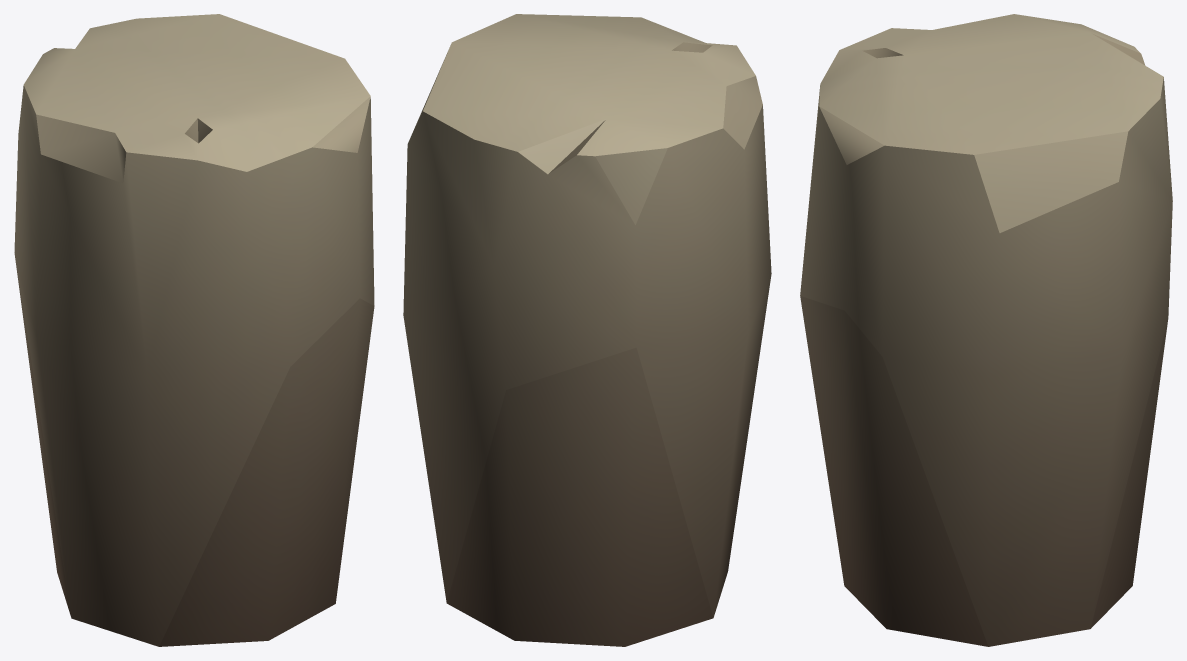
The model's file is Rock_Shrine_1C.fbx.
3 views of the same model, side by side, from view 1: azimuth 30°, elevation 25°; view 2: azimuth 150°, elevation 25°; view 3: azimuth 270°, elevation 25° (orthographic).
Visible parts, largest first — view 1: Rock_Shrine_1C; view 2: Rock_Shrine_1C; view 3: Rock_Shrine_1C.
Part boxes in pixels (x1,y1,x2,y2): Rock_Shrine_1C: [14, 14, 374, 646]; Rock_Shrine_1C: [403, 14, 771, 646]; Rock_Shrine_1C: [800, 14, 1172, 646].
Bounding box in the file's own units: 0.6169 × 0.9479 × 0.6173.
